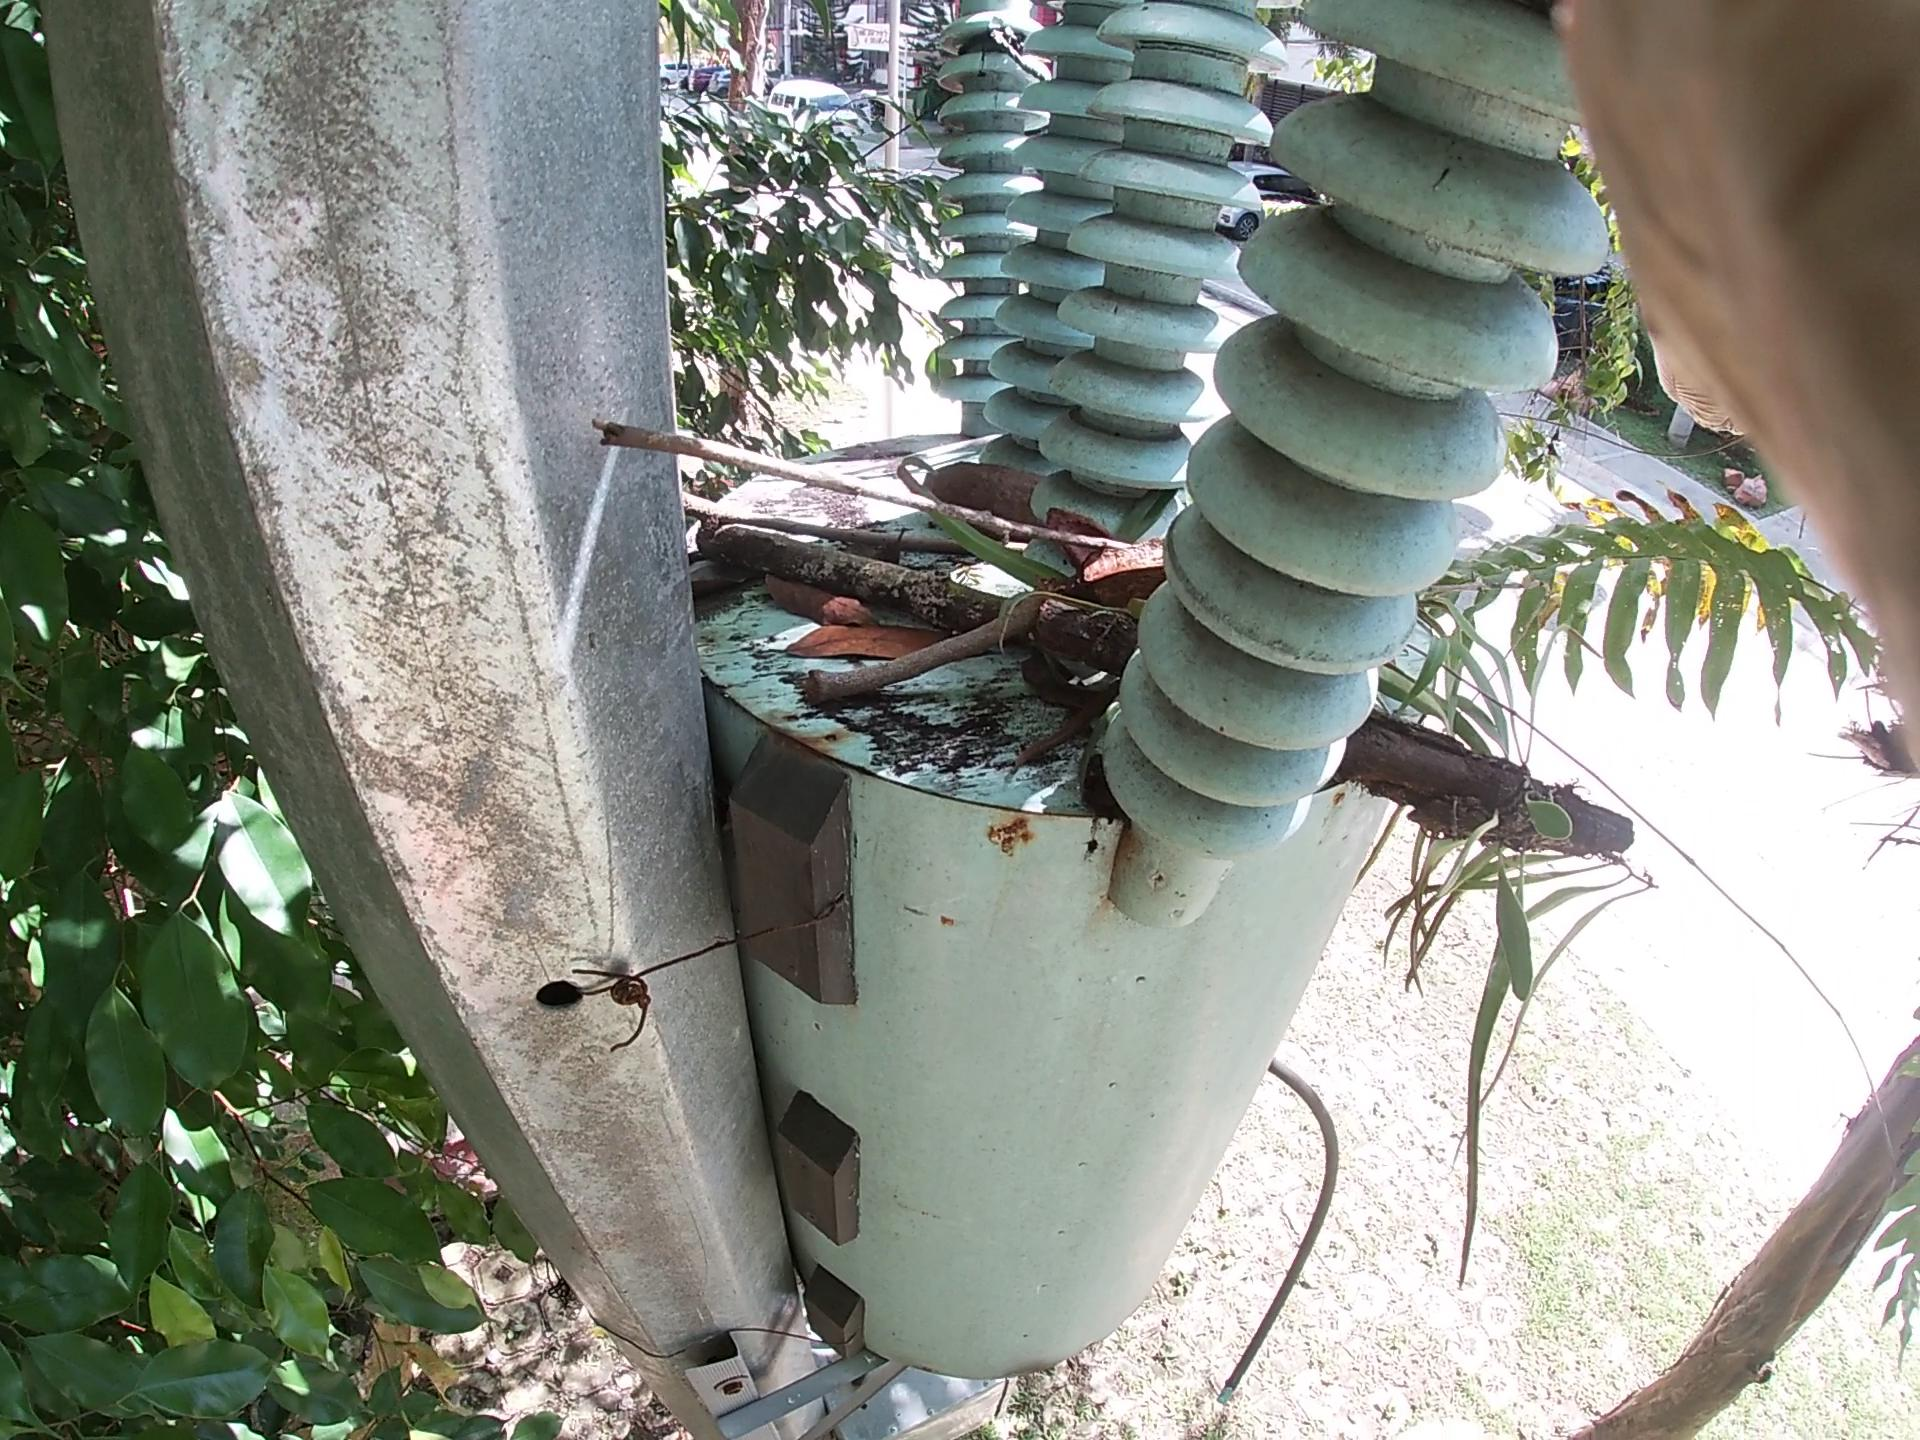branch with leaves: (688, 498, 1643, 915)
leaf: (760, 570, 881, 626), (786, 626, 958, 661)
mahogany fruit: (924, 445, 1179, 611)
tree branch: (584, 408, 1170, 582), (776, 593, 1081, 708), (683, 492, 986, 567)
